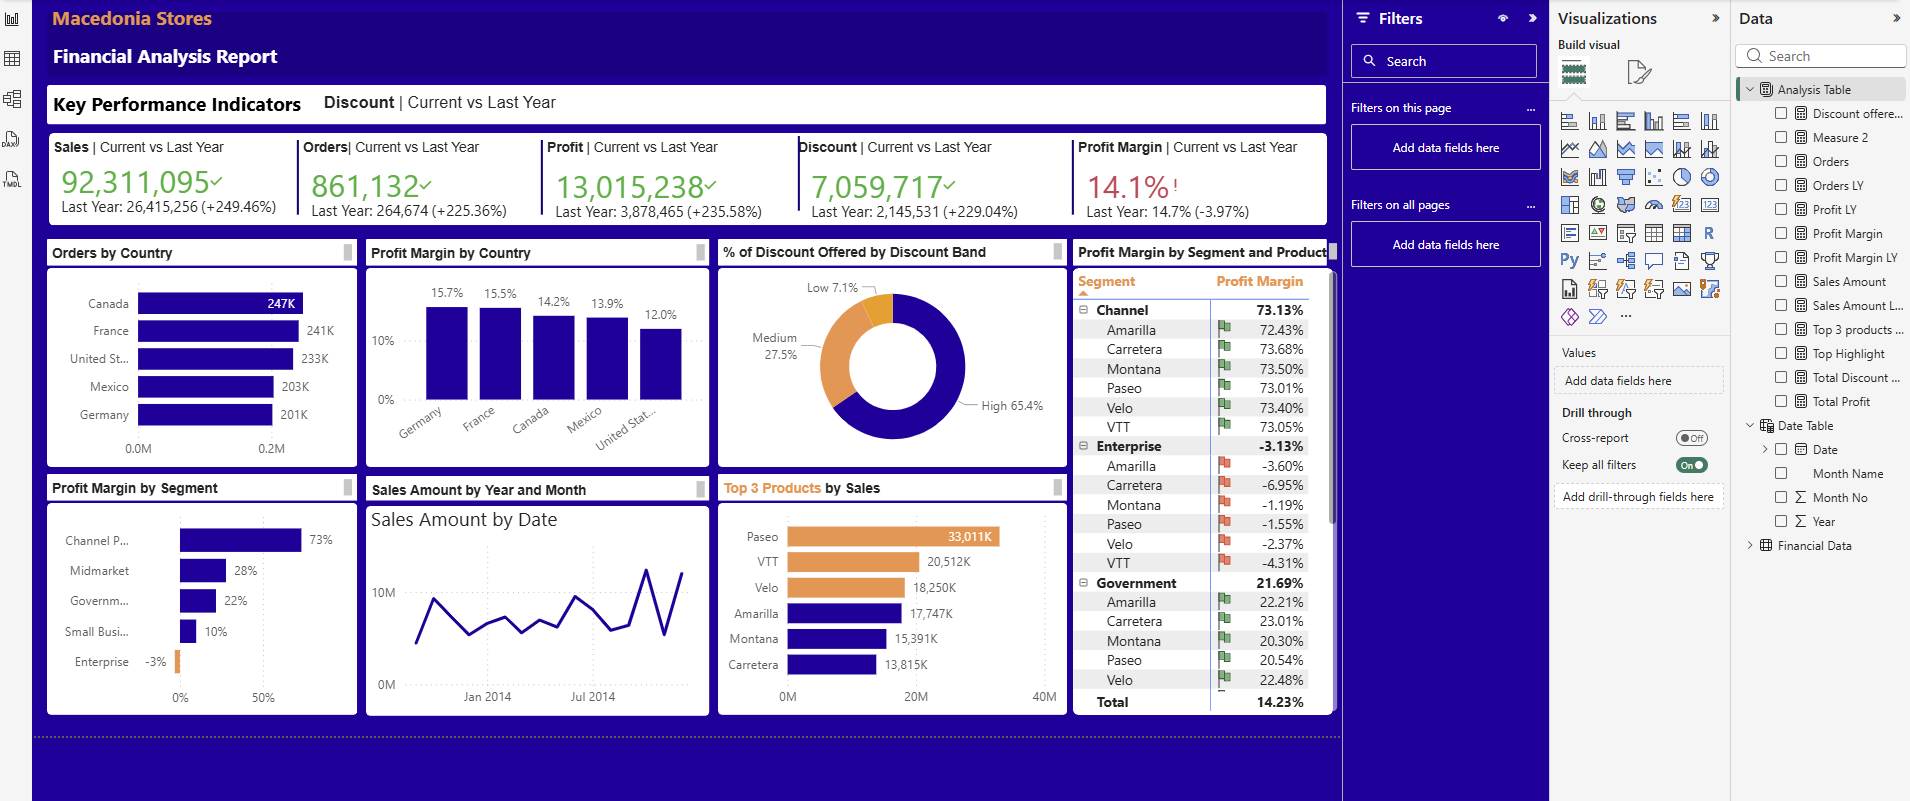

Layout of this report page (visuals, bound fields, positions):
{"tool":"powerbi","page":{"name":"Page 1","canvas":[1280,720],"ordinal":0},"visuals":[{"type":"shape","box":[14.6,12.6,1250.8,63.2],"z":0},{"type":"shape","box":[15.1,84,1249.8,38.6],"z":1000},{"type":"shape","box":[16.5,131.3,1248.9,90.5],"z":2000},{"type":"shape","box":[14.6,262.6,303.5,194.5],"z":3000},{"type":"shape","box":[14.6,492.2,303.5,207.2],"z":4000},{"type":"shape","box":[326.8,262.6,335.6,194.5],"z":5000},{"type":"shape","box":[670.2,262.6,341.4,194.5],"z":6000},{"type":"shape","box":[326.8,495.1,335.6,205.2],"z":7000},{"type":"shape","box":[670.2,492.2,341.4,207.2],"z":8000},{"type":"shape","box":[14.6,464,303.5,26.3],"z":9000},{"type":"shape","box":[326.8,465.9,335.6,24.3],"z":10000},{"type":"shape","box":[670.2,464,341.4,26.3],"z":11000},{"type":"shape","box":[14.6,234.4,303.5,26.3],"z":12000},{"type":"shape","box":[326.8,234.4,335.6,26.3],"z":13000},{"type":"shape","box":[670.2,234.4,341.4,26.3],"z":14000},{"type":"shape","box":[1017.2,234.5,248.2,26.4],"z":15000},{"type":"textbox","box":[14.6,0,245.1,37],"z":16000},{"type":"textbox","box":[15.6,37.1,245.3,39.1],"z":17000},{"type":"textbox","box":[15.6,83.6,264.6,38.9],"z":18000},{"type":"kpi","fields":{"Indicator":["Analysis Table.Sales Amount"],"TrendLine":["Date.Year"],"Goal":["Analysis Table.Sales Amount LST YR"]},"box":[15.6,161.2,244.3,51.8],"z":19000},{"type":"textbox","box":[15.6,131.3,244.1,30.2],"z":20000},{"type":"kpi","fields":{"TrendLine":["Date.Year"],"Goal":["Analysis Table.Orders LY"],"Indicator":["Analysis Table.Orders"]},"box":[259.9,161.2,238.4,59.6],"z":21000},{"type":"kpi","fields":{"TrendLine":["Date.Year"],"Goal":["Analysis Table.Profit LY"],"Indicator":["Analysis Table.Total Profit"]},"box":[498.3,161.2,250.1,60.6],"z":22000},{"type":"kpi","fields":{"TrendLine":["Date.Year"],"Goal":["Analysis Table.Discount offered LY"],"Indicator":["Analysis Table.Total Discount offered"]},"box":[748.5,161.2,268.7,60.6],"z":23000},{"type":"kpi","fields":{"TrendLine":["Date.Year"],"Goal":["Analysis Table.Profit Margin LY"],"Indicator":["Analysis Table.Profit percent/ Margin"]},"box":[1017.2,161.2,248.2,60.6],"z":24000},{"type":"textbox","box":[743.1,131.3,268.4,30.2],"z":25000},{"type":"textbox","box":[1017.4,131.3,248,30.2],"z":26000},{"type":"textbox","box":[498,131.3,250.9,30.2],"z":27000},{"type":"textbox","box":[259.7,131.3,238.3,34],"z":28000},{"type":"shape","box":[230.5,138.1,58.4,72.9],"z":29000},{"type":"shape","box":[468.8,138.1,58.4,72.9],"z":30000},{"type":"shape","box":[988.2,138.1,58.4,72.9],"z":31000},{"type":"shape","box":[719.8,134.2,58.4,72.9],"z":32000},{"type":"clusteredBarChart","fields":{"Category":["Financial Data.Country"],"Y":["Analysis Table.Orders"]},"box":[14.6,262.6,303.5,194.5],"z":33000},{"type":"textbox","box":[670.3,233.5,341,26.4],"z":34000},{"type":"textbox","box":[14.6,234.4,303.5,26.3],"z":35000},{"type":"clusteredColumnChart","fields":{"Y":["Analysis Table.Profit Margin"],"Category":["Financial Data.Country"]},"box":[326.8,262.6,335.6,194.5],"z":36000},{"type":"textbox","box":[326.8,465.9,335.6,26.3],"z":37000},{"type":"textbox","box":[670.2,464,341.4,26.3],"z":38000},{"type":"textbox","box":[280.1,87.5,268.4,30.2],"z":39000},{"type":"textbox","box":[14.6,464,303.5,26.3],"z":40000},{"type":"textbox","box":[326.8,234.4,335.6,26.3],"z":41000},{"type":"donutChart","fields":{"Category":["Financial Data.Discount Band"],"Y":["Analysis Table.Discount offered LY"]},"box":[670.2,260.7,341.4,196.5],"z":42000},{"type":"clusteredBarChart","fields":{"Category":["Financial Data.Segment"],"Y":["Analysis Table.Profit Margin"]},"box":[14.6,492.2,303.5,208.1],"z":43000},{"type":"lineChart","fields":{"Category":["Date.Date.Variation.Date Hierarchy.Year"],"Y":["Analysis Table.Sales Amount"]},"box":[326.8,495.1,335.6,204.3],"z":44000},{"type":"clusteredBarChart","fields":{"Category":["Financial Data.Product"],"Y":["Analysis Table.Sales Amount"]},"box":[670.3,492.5,341,207.1],"z":45000},{"type":"shape","box":[1017.2,262.8,254,436.8],"z":46000},{"type":"pivotTable","fields":{"Rows":["Financial Data.Segment","Financial Data.Product"],"Values":["Analysis Table.Profit Margin"]},"box":[1012.3,260.9,267.7,439.7],"z":47000},{"type":"textbox","box":[1017.2,233.5,262.8,26.4],"z":48000}]}

Visuals, with their boxes on the page's 1280x720 design canvas (x1, y1, x2, y2). These are canvas units, not pixel positions in the 1910x801 screenshot, which may show the page scaled, cropped or inside an application window:
shape: [15,13,1265,76]
shape: [15,84,1265,123]
shape: [16,131,1265,222]
shape: [15,263,318,457]
shape: [15,492,318,699]
shape: [327,263,662,457]
shape: [670,263,1012,457]
shape: [327,495,662,700]
shape: [670,492,1012,699]
shape: [15,464,318,490]
shape: [327,466,662,490]
shape: [670,464,1012,490]
shape: [15,234,318,261]
shape: [327,234,662,261]
shape: [670,234,1012,261]
shape: [1017,234,1265,261]
textbox: [15,0,260,37]
textbox: [16,37,261,76]
textbox: [16,84,280,122]
kpi - Analysis Table.Sales Amount x Date.Year: [16,161,260,213]
textbox: [16,131,260,162]
kpi - Date.Year x Analysis Table.Orders LY: [260,161,498,221]
kpi - Date.Year x Analysis Table.Profit LY: [498,161,748,222]
kpi - Date.Year x Analysis Table.Discount offered LY: [748,161,1017,222]
kpi - Date.Year x Analysis Table.Profit Margin LY: [1017,161,1265,222]
textbox: [743,131,1012,162]
textbox: [1017,131,1265,162]
textbox: [498,131,749,162]
textbox: [260,131,498,165]
shape: [230,138,289,211]
shape: [469,138,527,211]
shape: [988,138,1047,211]
shape: [720,134,778,207]
clusteredBarChart - Financial Data.Country x Analysis Table.Orders: [15,263,318,457]
textbox: [670,234,1011,260]
textbox: [15,234,318,261]
clusteredColumnChart - Analysis Table.Profit Margin x Financial Data.Country: [327,263,662,457]
textbox: [327,466,662,492]
textbox: [670,464,1012,490]
textbox: [280,88,548,118]
textbox: [15,464,318,490]
textbox: [327,234,662,261]
donutChart - Financial Data.Discount Band x Analysis Table.Discount offered LY: [670,261,1012,457]
clusteredBarChart - Financial Data.Segment x Analysis Table.Profit Margin: [15,492,318,700]
lineChart - Date.Date.Variation.Date Hierarchy.Year x Analysis Table.Sales Amount: [327,495,662,699]
clusteredBarChart - Financial Data.Product x Analysis Table.Sales Amount: [670,492,1011,700]
shape: [1017,263,1271,700]
pivotTable - Financial Data.Segment x Financial Data.Product: [1012,261,1280,701]
textbox: [1017,234,1280,260]
